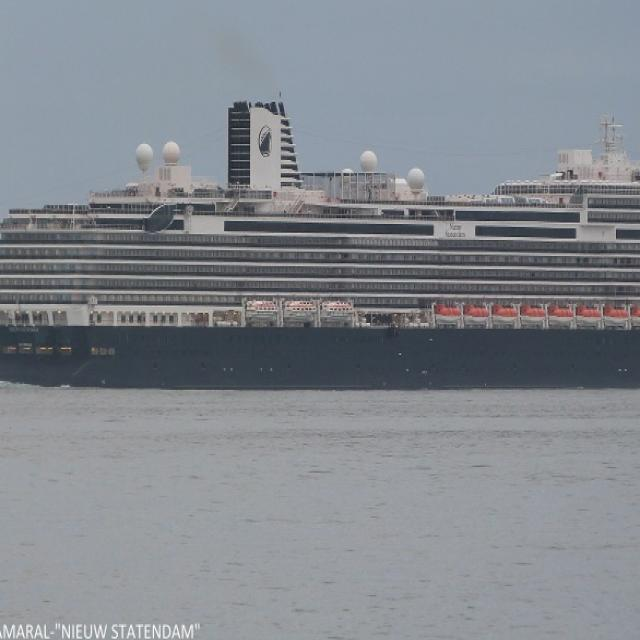cruises: (1, 90, 640, 398)
